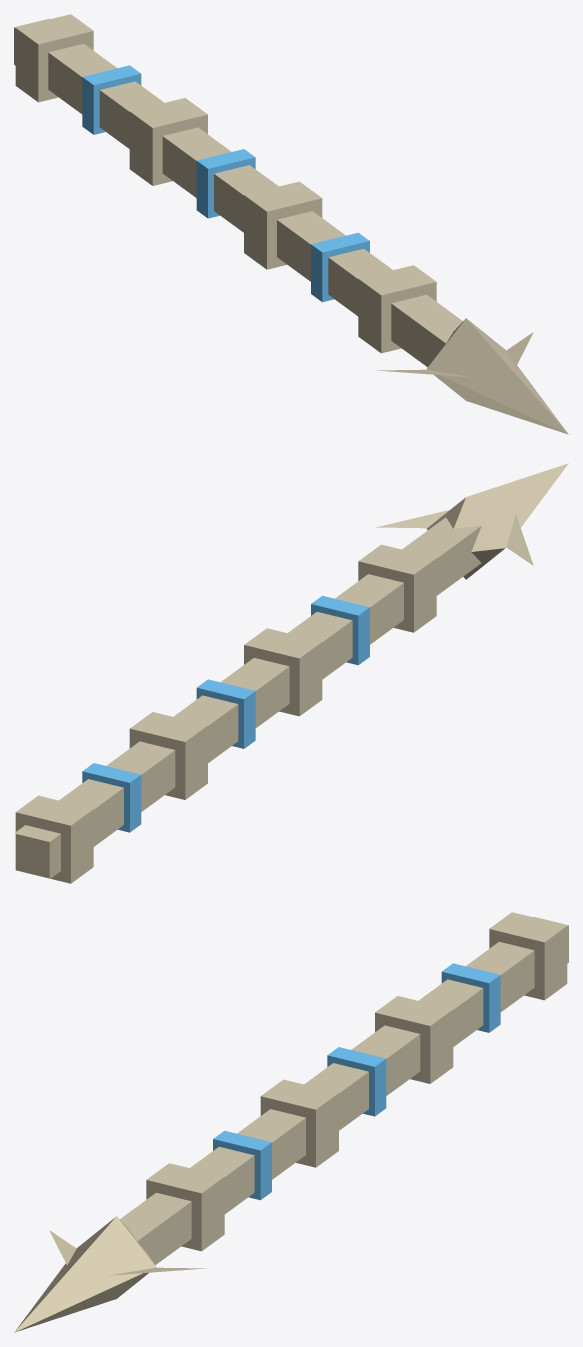
File: bone_spear.glb
The picture shows the model from 3 angles, top to bottom: view 1: azimuth 30°, elevation 25°; view 2: azimuth 150°, elevation 25°; view 3: azimuth 330°, elevation 25°; orthographic projection.
Parts seen in each view (by area): view 1: bone_spear; view 2: bone_spear; view 3: bone_spear.
Part boxes in pixels (x1,y1,x2,y2): bone_spear: [14, 14, 568, 434]; bone_spear: [14, 463, 568, 883]; bone_spear: [14, 912, 568, 1332].
Bounding box in the file's own units: 0.4 × 0.2 × 2.35.
Materials: 1 (1 with a texture image).
